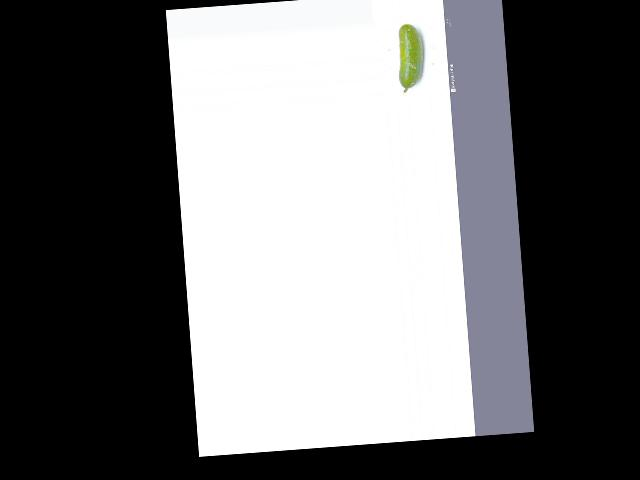cucumber: (395, 22, 426, 93)
